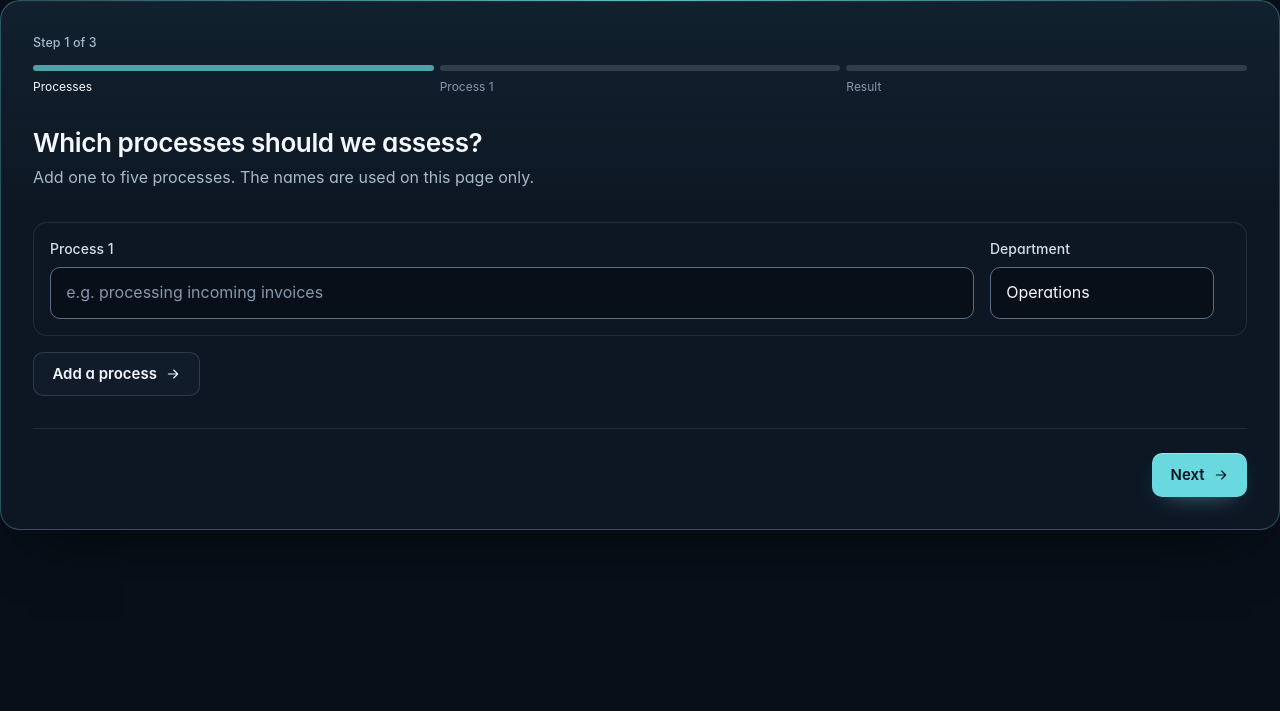
opportunity finder › limits the list to five processes
Click the button "Add a process".
click(117, 374)  # box [33, 352, 200, 396]
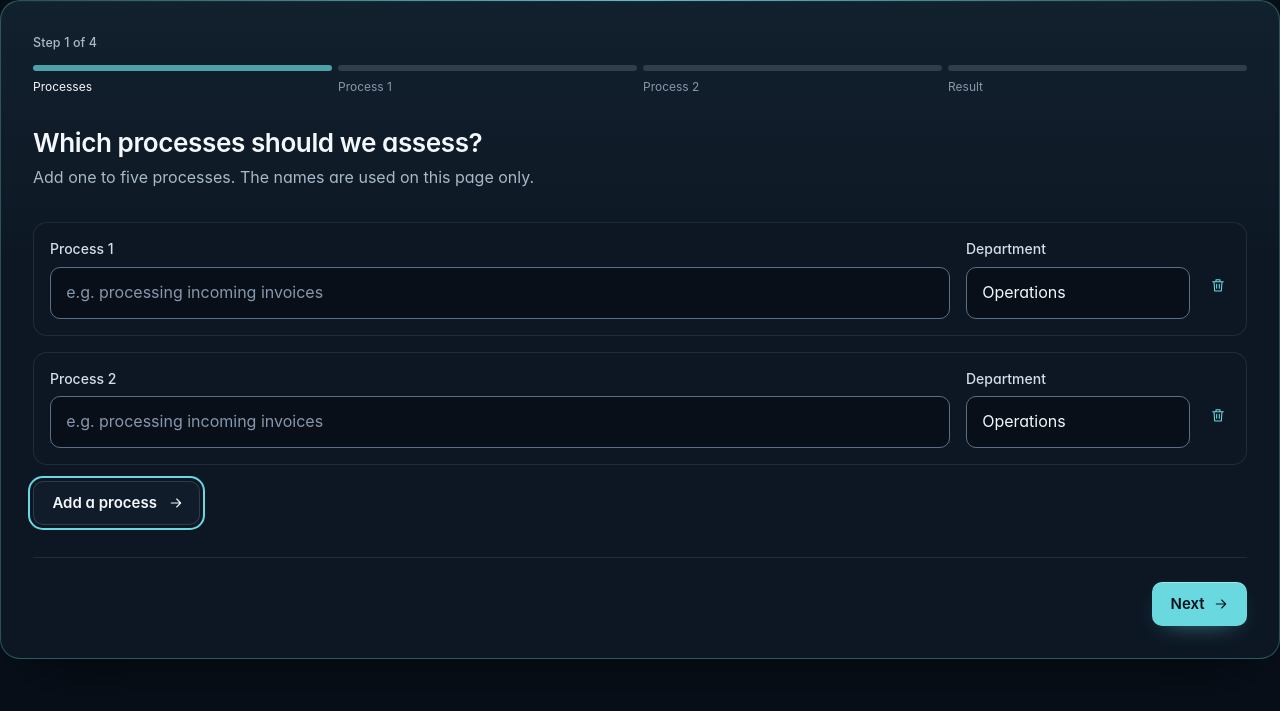
Click the button "Add a process".
click(117, 503)  # box [33, 481, 200, 525]
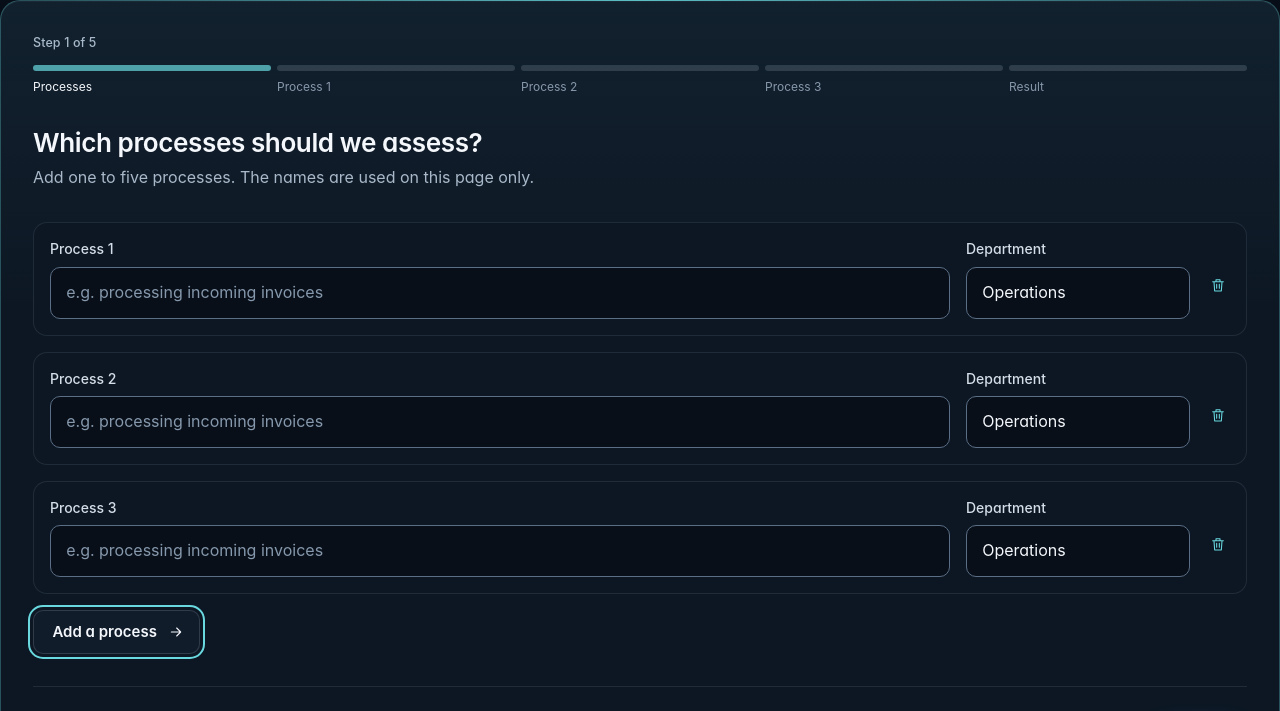
Click the button "Add a process".
click(117, 632)  # box [33, 610, 200, 654]
(page scrolled)
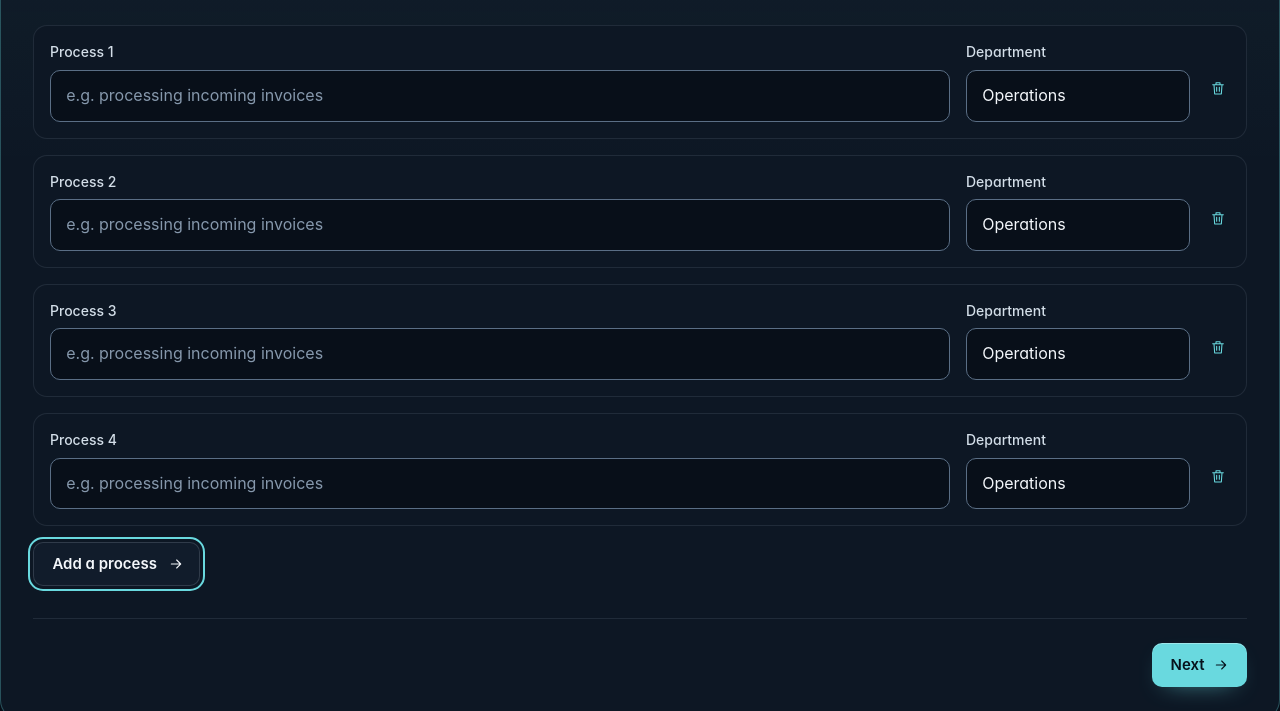
Click the button "Add a process".
click(117, 564)  # box [33, 542, 200, 586]
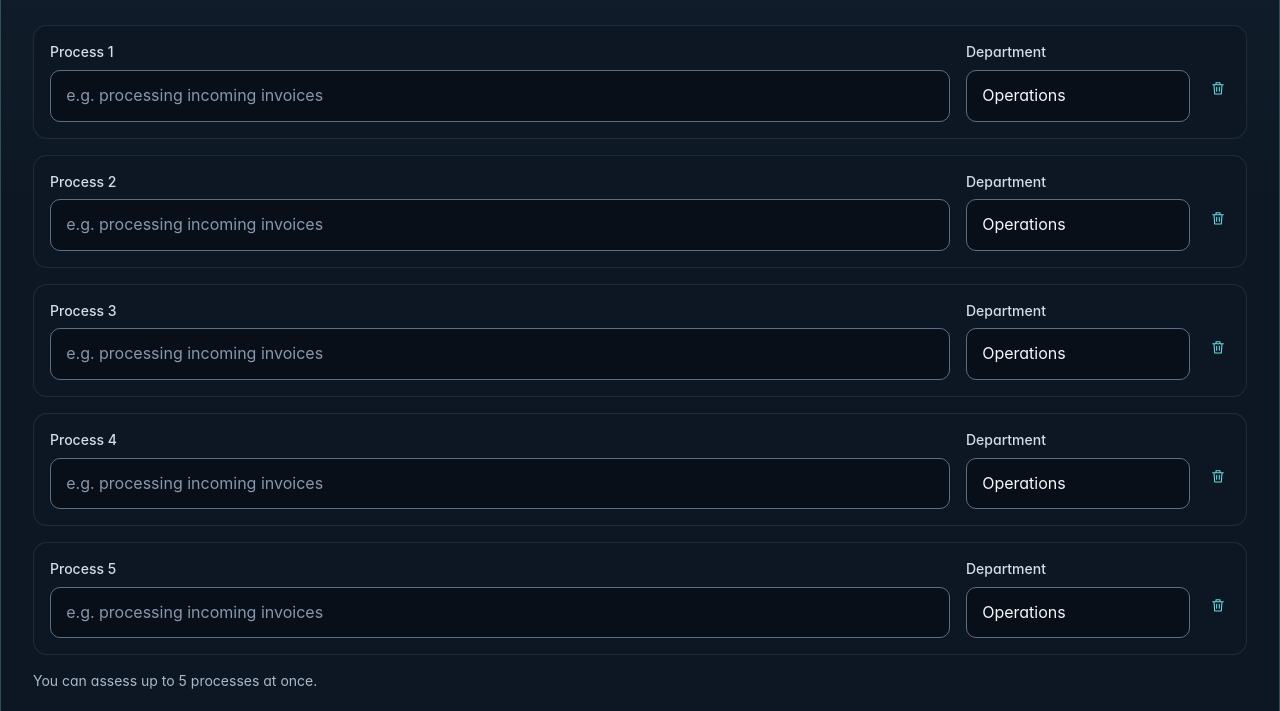
Expected: the button "Add a process" is gone
Expected: the text "You can assess up to 5 processes at once." is shown, [33, 672, 317, 689]
Click the button named "Remove process 5".
click(1218, 605)  # box [1206, 587, 1230, 623]
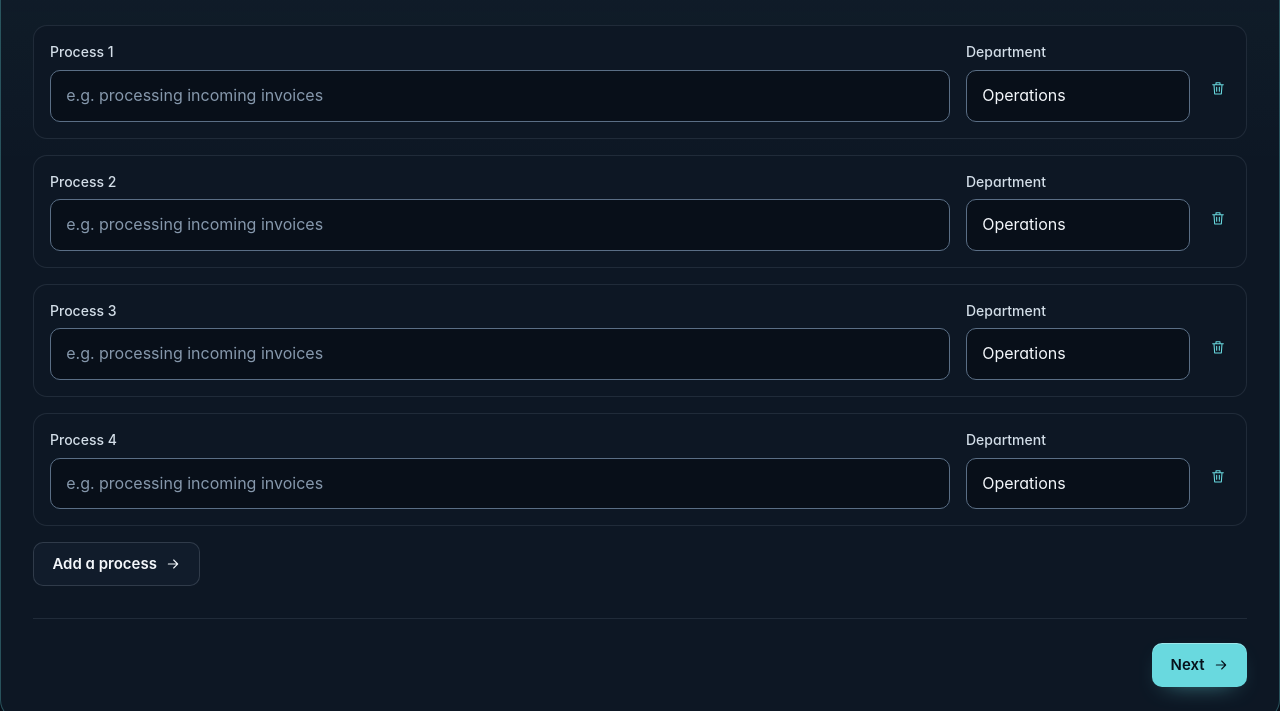
Expected: the button "Add a process" is shown, [33, 542, 200, 586]
